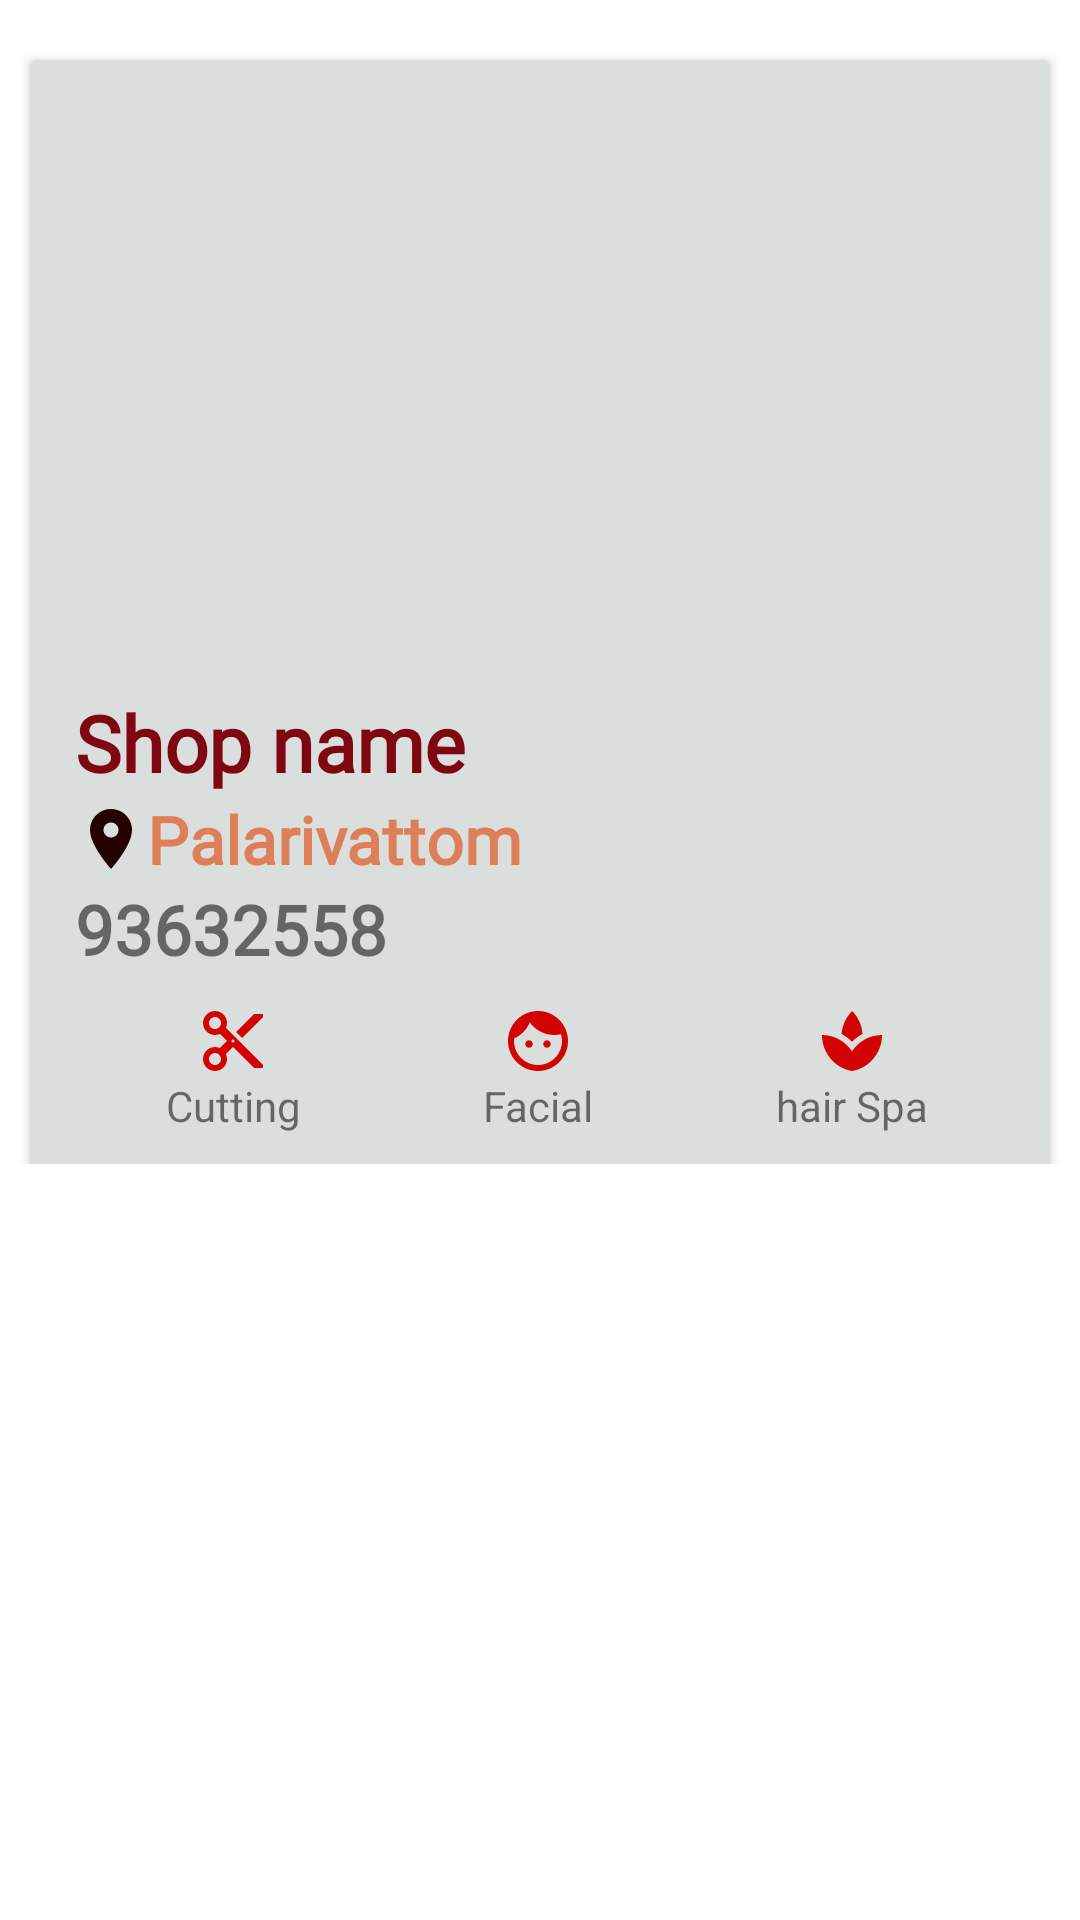

Where icons sit on this 1080x1920 app screen, as (x1, y1, x2, y2):
content cut: (203, 1011, 263, 1071)
face: (508, 1011, 568, 1071)
location on: (90, 809, 132, 869)
